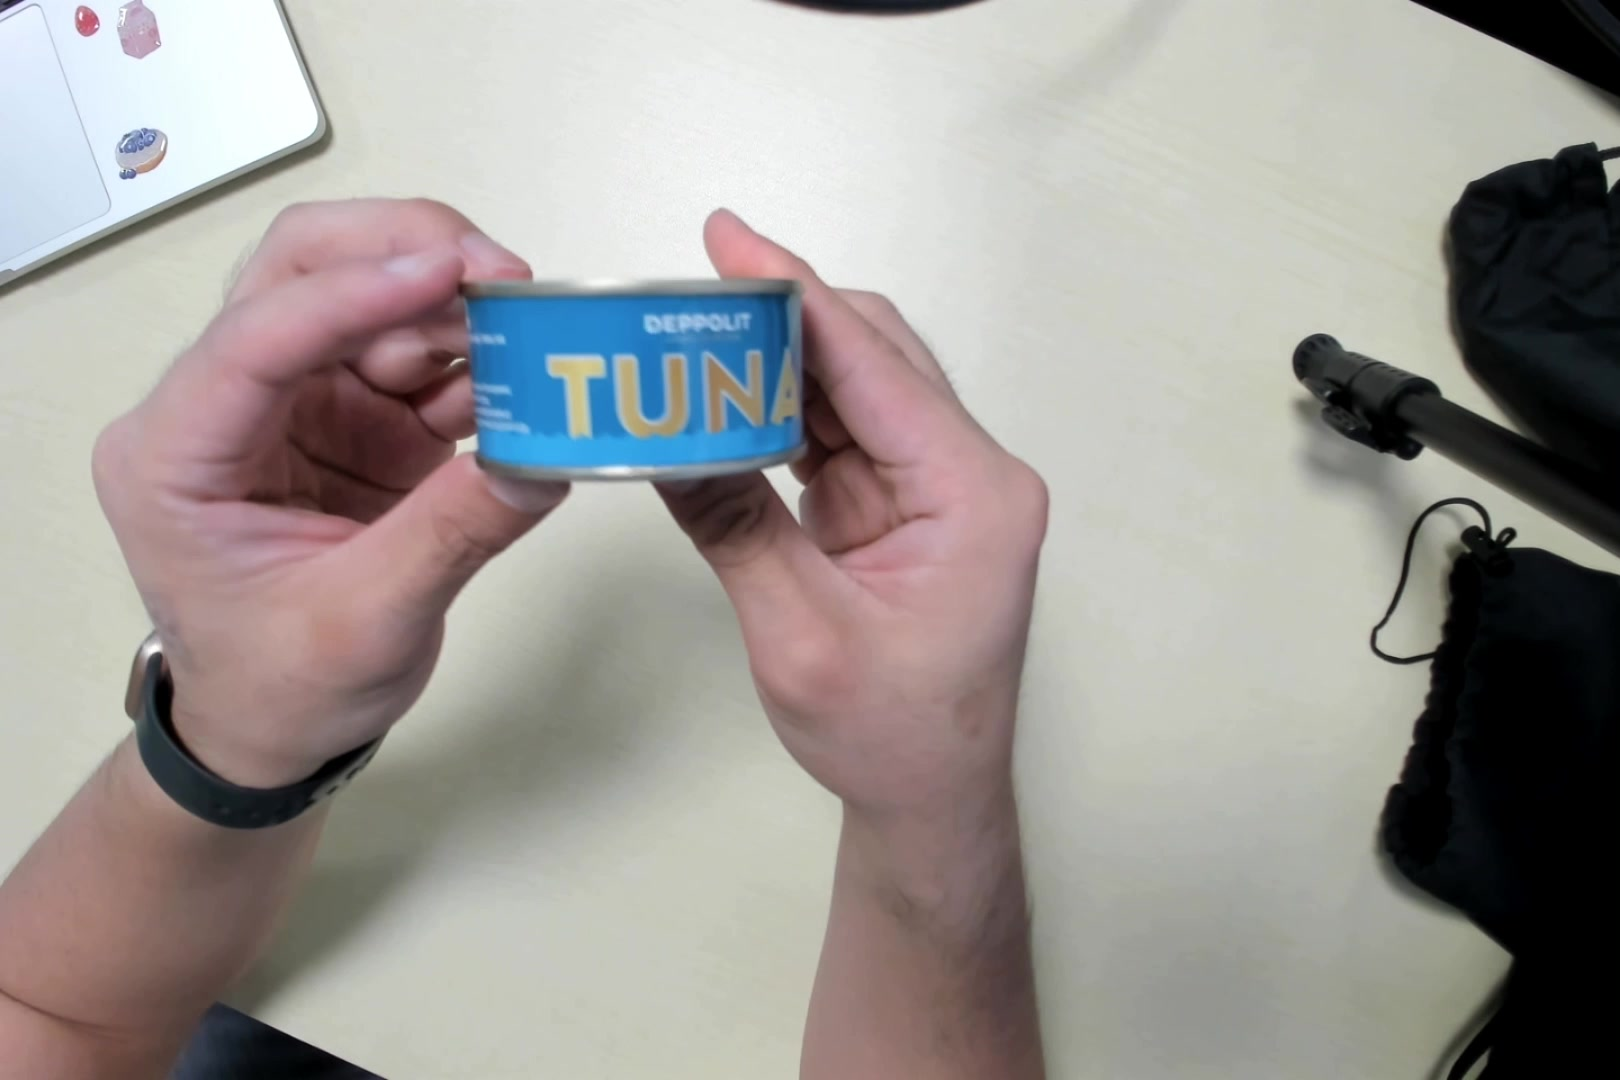CannedTunaDace_0-99g_NonHalal_NonHealthy: (457, 274, 812, 486)
